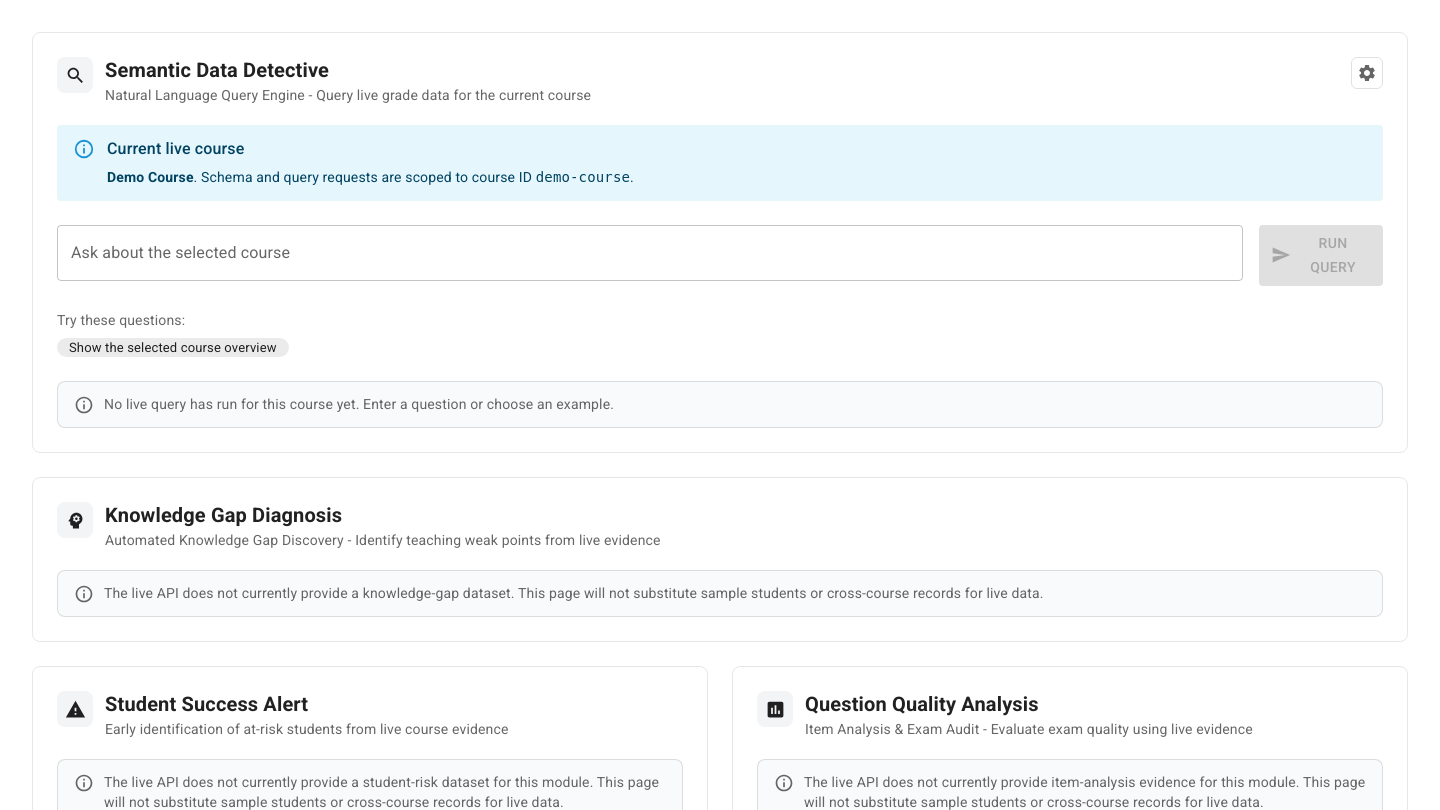
AI Analytics live request states › uses the selected authorized course and labels a successful live result
Type "Show overview" into the field labelled "Ask about the selected course" at (650, 253), box [57,225,1243,281]
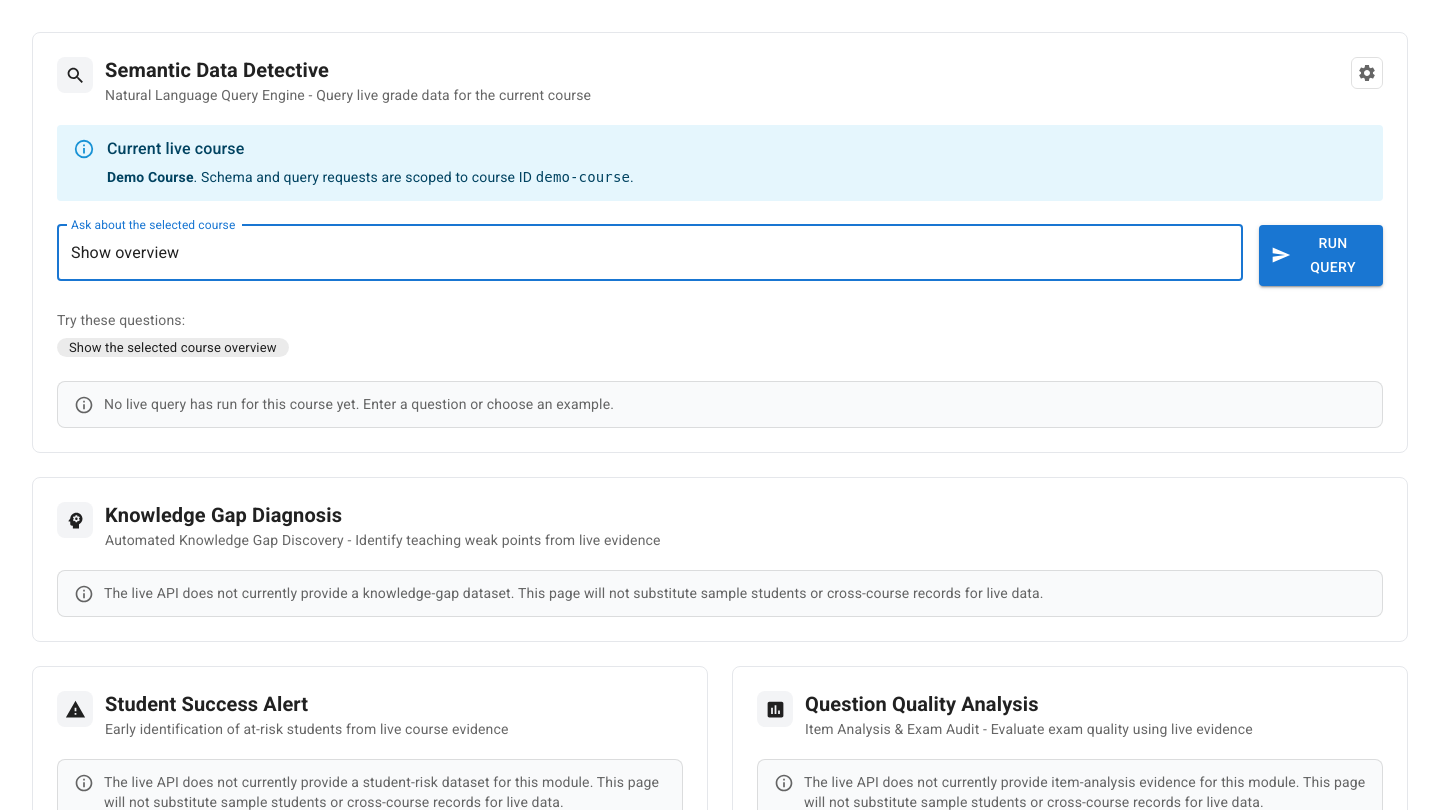
Click the button "Run query" at (1321, 255), box [1259,225,1383,286]
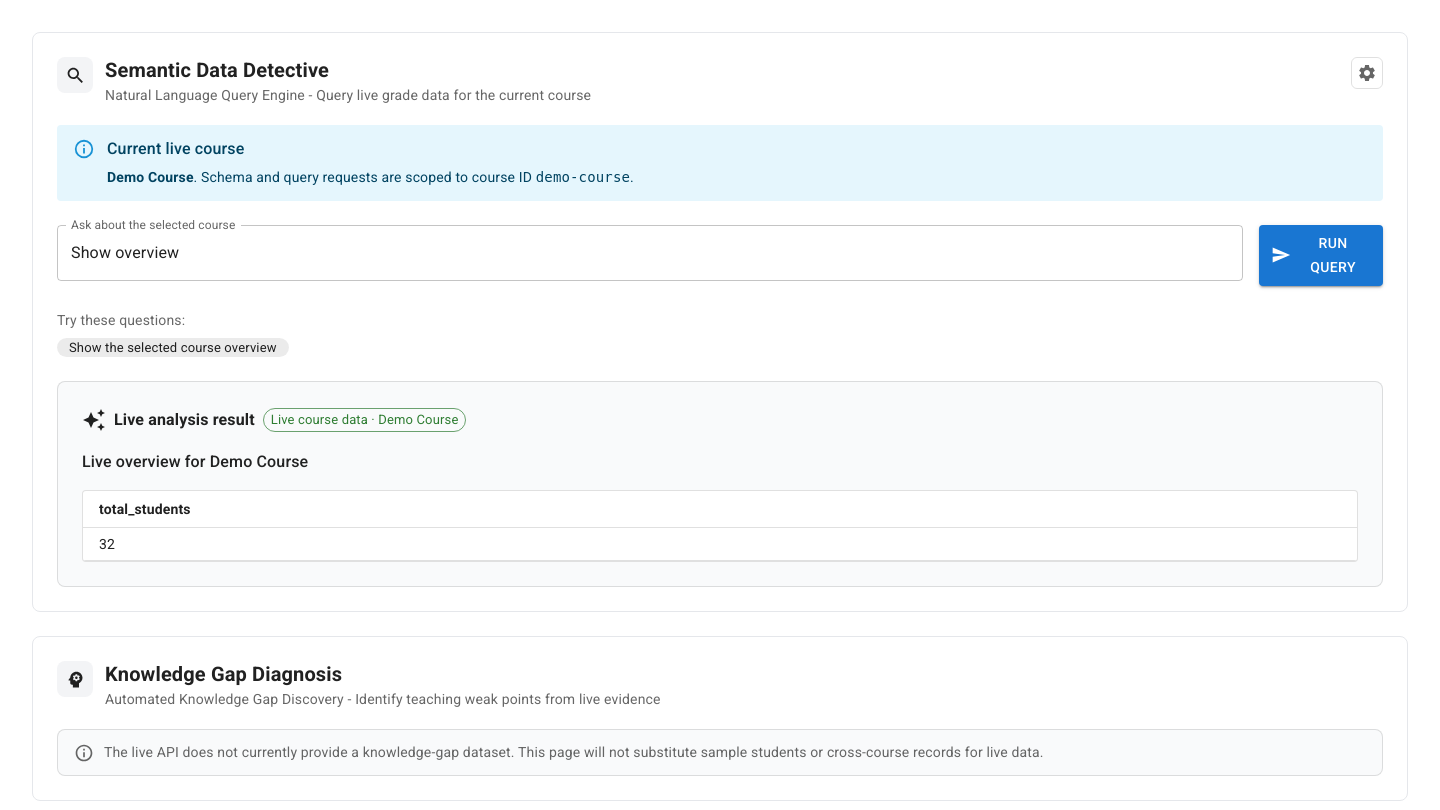
Check: the text "Live overview for Demo Course" is shown, box [82,452,308,471]
Check: the text "Live course data · Demo Course" is shown, box [264,410,465,430]
